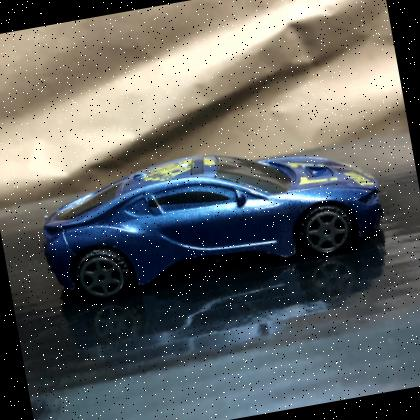Car: (42, 155, 384, 301)
